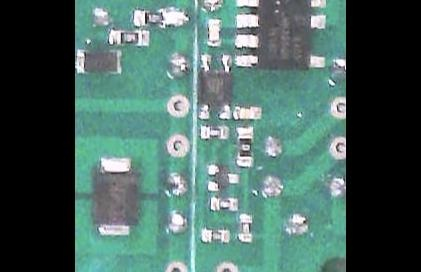chip-capacitor: (205, 16, 223, 48), (231, 104, 263, 121)
chip-resistor: (234, 124, 254, 167), (132, 6, 172, 27), (108, 30, 148, 47), (207, 194, 240, 213), (198, 122, 231, 141), (235, 211, 253, 243), (198, 227, 231, 244)
diode: (89, 154, 142, 237), (75, 48, 123, 75)
ic: (231, 0, 326, 72), (196, 53, 233, 121)
transistor: (206, 162, 240, 191)
